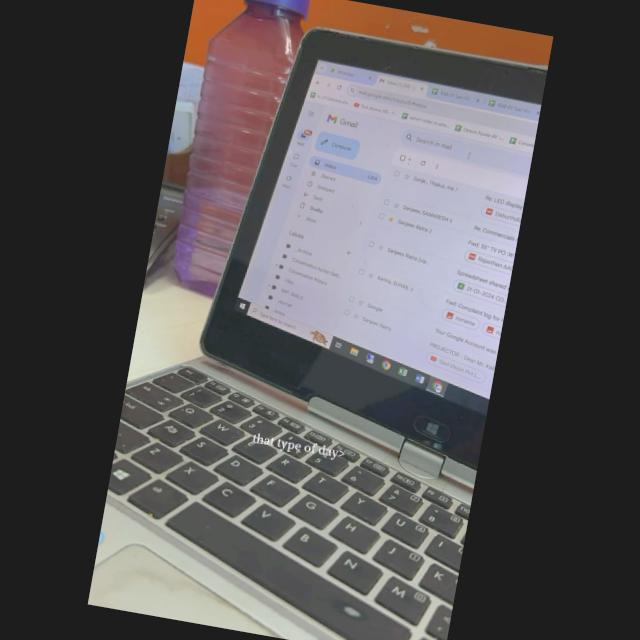laptop: (94, 29, 547, 640)
